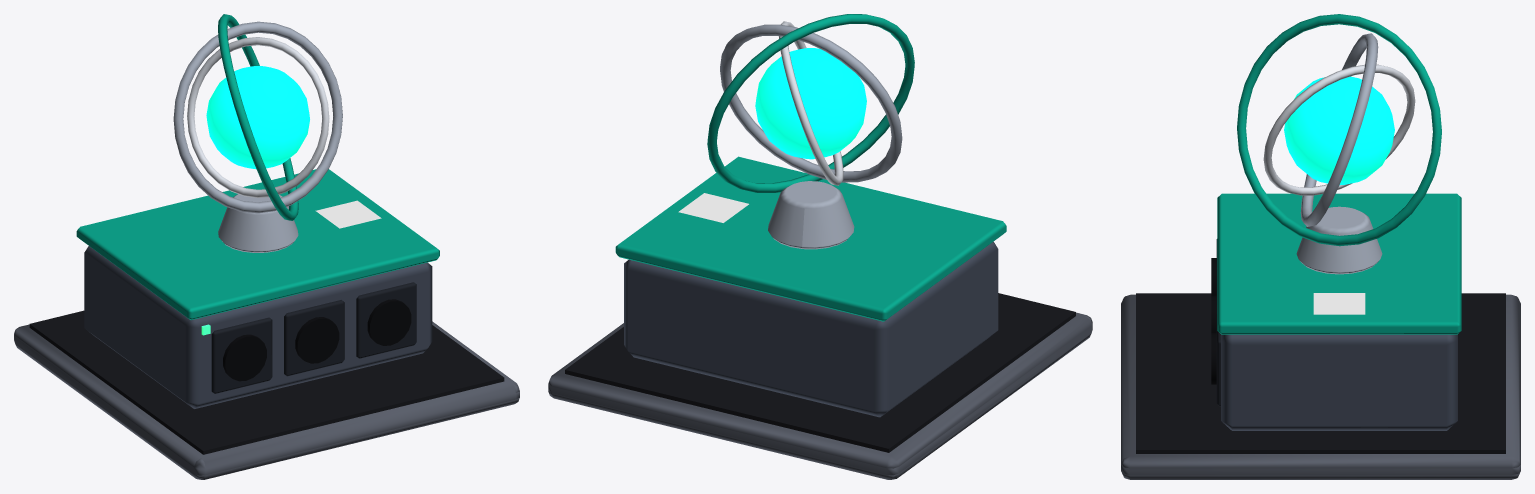
File: sagemaker.glb
3 renders of one model, left to right at view 1: azimuth 30°, elevation 25°; view 2: azimuth 150°, elevation 25°; view 3: azimuth 270°, elevation 25°, orthographic. The views are drawn at different scales.
Parts seen in each view (by area): view 1: body.accent, body.rubber, body.steel, body.concrete, body.accent_glow, body.bezel, spin_rings.steel_light, body.vent, spin_rings.white, body.steel_light, spin_rings.accent, body.badge; view 2: body.steel, body.accent, body.rubber, body.concrete, body.accent_glow, spin_rings.accent, spin_rings.steel_light, body.steel_light, spin_rings.white, body.badge; view 3: body.accent, body.rubber, body.steel, body.concrete, body.accent_glow, spin_rings.accent, body.steel_light, spin_rings.steel_light, spin_rings.white, body.badge, body.vent, body.bezel.
Boxes of the visible parts, box(x1,y1,x2,y2) form: body.accent: box(76, 169, 439, 319); body.rubber: box(29, 310, 504, 454); body.steel: box(84, 246, 432, 408); body.concrete: box(14, 321, 519, 479); body.accent_glow: box(206, 66, 309, 169); body.bezel: box(211, 282, 416, 393); spin_rings.steel_light: box(173, 21, 342, 213); body.vent: box(223, 299, 411, 381); spin_rings.white: box(187, 37, 329, 197); body.steel_light: box(218, 194, 298, 252); spin_rings.accent: box(218, 14, 298, 220); body.badge: box(315, 200, 381, 228); body.steel: box(624, 242, 998, 417); body.accent: box(615, 156, 1006, 321); body.rubber: box(565, 293, 1075, 452); body.concrete: box(548, 312, 1092, 479); body.accent_glow: box(755, 48, 866, 159); spin_rings.accent: box(707, 14, 914, 192); spin_rings.steel_light: box(720, 24, 902, 182); body.steel_light: box(768, 181, 854, 249); spin_rings.white: box(779, 21, 843, 185); body.badge: box(678, 193, 748, 222); body.accent: box(1217, 193, 1461, 334); body.rubber: box(1136, 293, 1505, 453); body.steel: box(1221, 334, 1457, 430); body.concrete: box(1121, 294, 1520, 479); body.accent_glow: box(1284, 76, 1394, 185); spin_rings.accent: box(1237, 14, 1441, 246); body.steel_light: box(1296, 206, 1382, 274); spin_rings.steel_light: box(1300, 33, 1378, 226); spin_rings.white: box(1263, 64, 1415, 195); body.badge: box(1313, 293, 1365, 314); body.vent: box(1211, 258, 1216, 384); body.bezel: box(1216, 239, 1220, 406).
Bounding box in the file's own units: 1.08 × 1.1 × 1.08.
